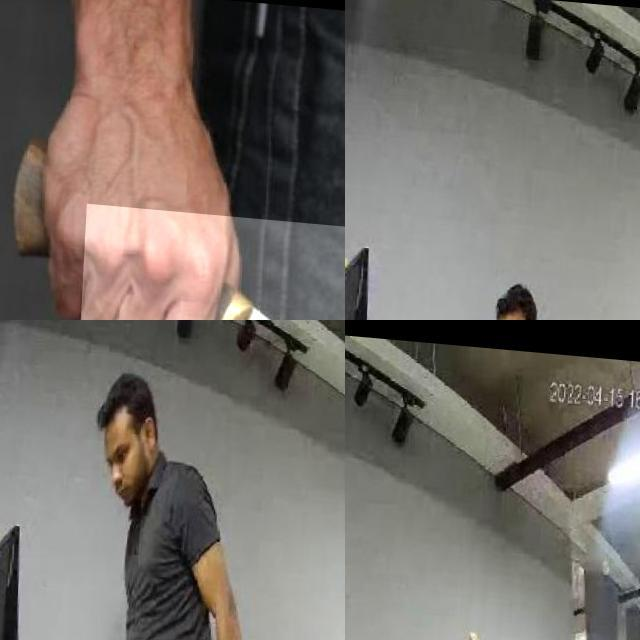-: (75, 200, 345, 320)
